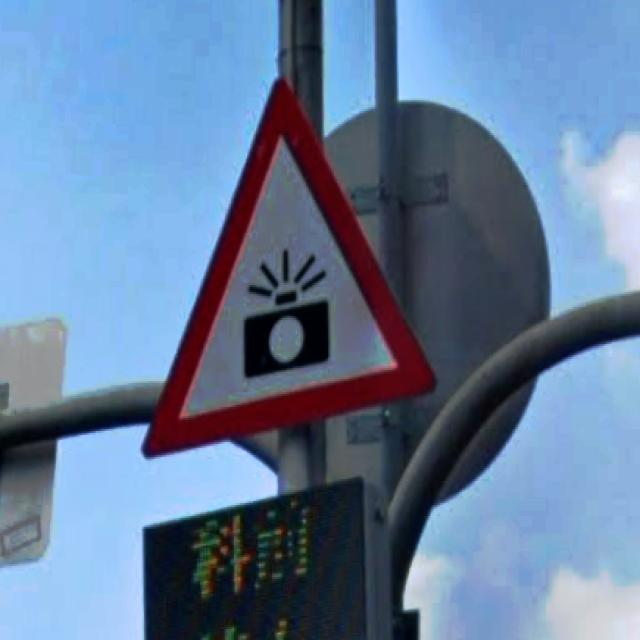speedcamera: (140, 80, 437, 462)
